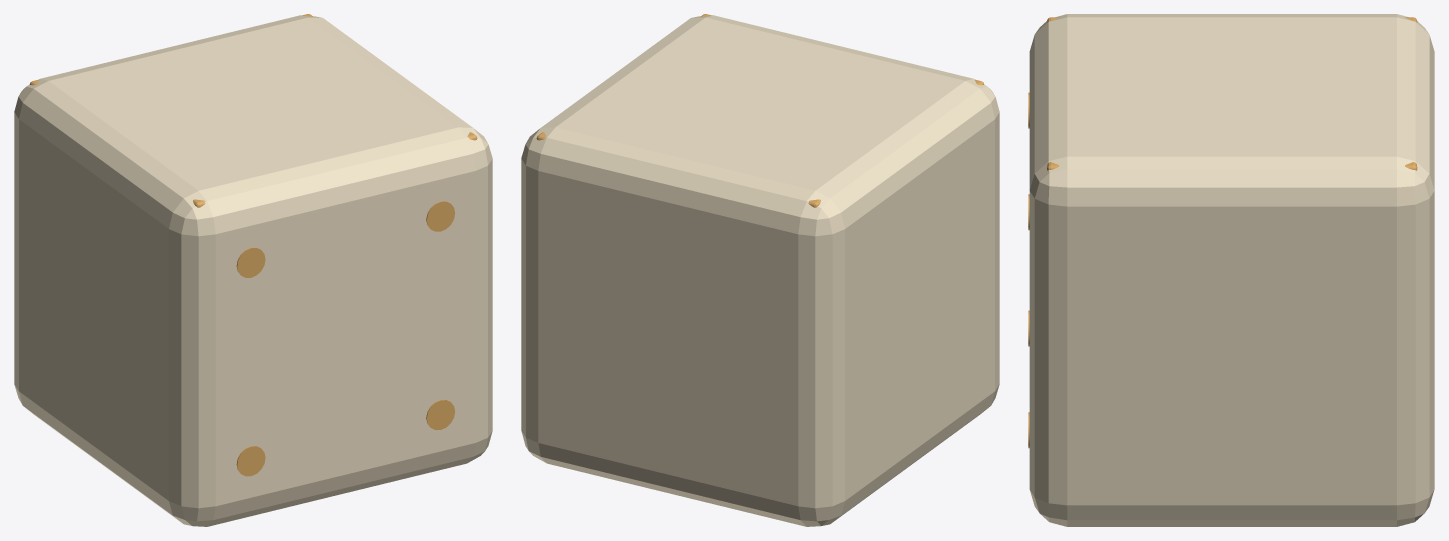
File: block-ivory.glb
3 views of the same model, side by side, from view 1: azimuth 30°, elevation 25°; view 2: azimuth 150°, elevation 25°; view 3: azimuth 270°, elevation 25° (orthographic). The views are drawn at different scales.
Visible parts, largest first — view 1: block-ivory; view 2: block-ivory; view 3: block-ivory.
Boxes of the visible parts, x1,y1,x2,y2 form: block-ivory: (14, 14, 492, 526); block-ivory: (521, 14, 999, 526); block-ivory: (1028, 14, 1434, 526).
Size of the model in its own units: 0.495 by 0.495 by 0.4965.
